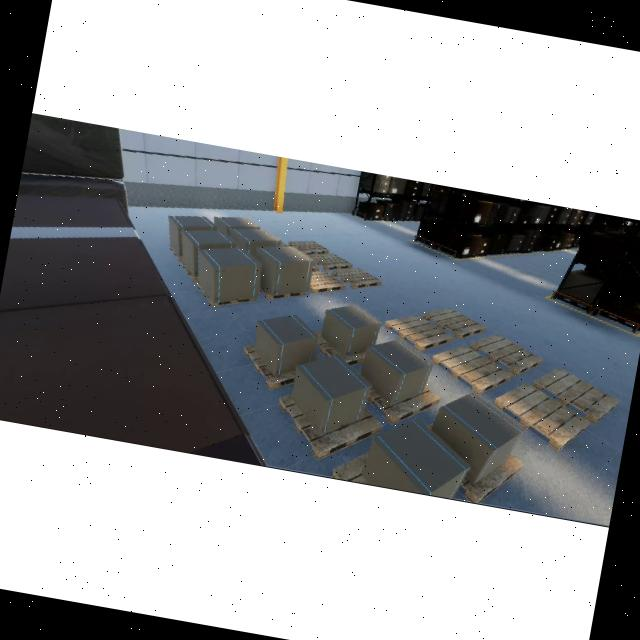wooden_pallet: (279, 396, 383, 459), (432, 345, 512, 395), (470, 334, 543, 375), (366, 385, 440, 425), (384, 314, 452, 351), (422, 307, 485, 339), (195, 281, 256, 306), (331, 267, 382, 289), (309, 271, 347, 293), (258, 285, 305, 300)
